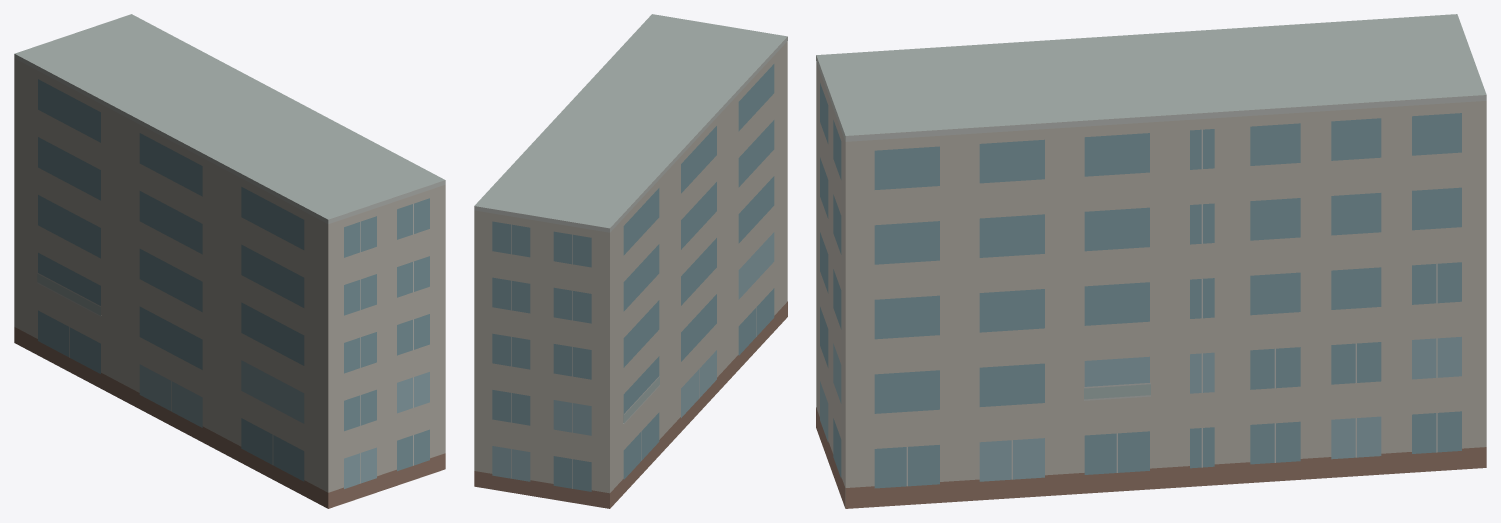
Rendered from survey-upis-32616270.glb.
The picture shows the model from 3 angles, left to right: view 1: azimuth 30°, elevation 25°; view 2: azimuth 150°, elevation 25°; view 3: azimuth 270°, elevation 25°; orthographic projection. The views are drawn at different scales.
Parts seen in each view (by area): view 1: survey-upis-32616270.tmp; view 2: survey-upis-32616270.tmp; view 3: survey-upis-32616270.tmp.
Boxes of the visible parts, box(x1,y1,x2,y2) form: survey-upis-32616270.tmp: box(14, 14, 445, 508); survey-upis-32616270.tmp: box(474, 14, 787, 508); survey-upis-32616270.tmp: box(816, 14, 1486, 508).
Bounding box in the file's own units: 10.85 × 15.45 × 25.19.
